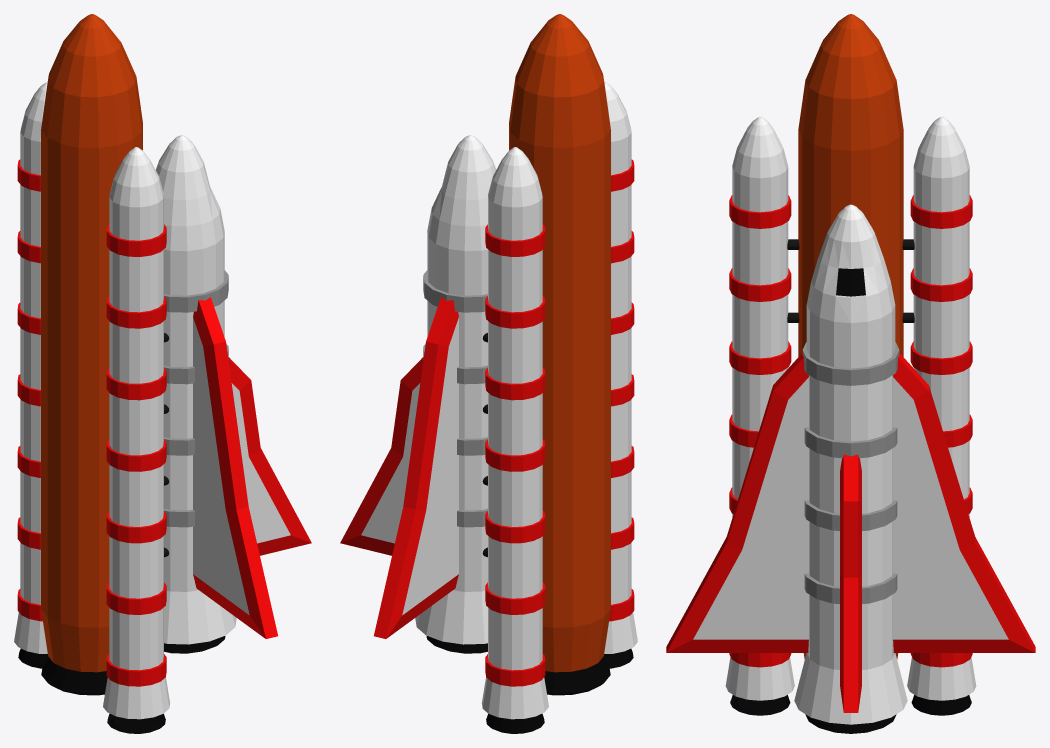
Rendered from rocketmodel.obj.
3 renders of one model, left to right at view 1: azimuth 30°, elevation 25°; view 2: azimuth 150°, elevation 25°; view 3: azimuth 270°, elevation 25°, orthographic. The views are drawn at different scales.
Visible parts, largest first — view 1: Cylinder.004, Cylinder, Cylinder.015, Cylinder.005; view 2: Cylinder.004, Cylinder, Cylinder.005, Cylinder.015; view 3: Cylinder, Cylinder.004, Cylinder.015, Cylinder.005.
Boxes of the visible parts, box(x1,y1,x2,y2) form: Cylinder.004: box(41, 14, 169, 695); Cylinder: box(156, 135, 311, 653); Cylinder.015: box(103, 147, 170, 733); Cylinder.005: box(14, 82, 49, 668); Cylinder.004: box(482, 14, 610, 695); Cylinder: box(340, 135, 495, 653); Cylinder.005: box(481, 147, 548, 733); Cylinder.015: box(602, 82, 637, 668); Cylinder: box(666, 204, 1035, 733); Cylinder.004: box(787, 14, 914, 659); Cylinder.015: box(725, 116, 794, 715); Cylinder.005: box(907, 116, 976, 715).
Bounding box in the file's own units: 3.81 × 9.43 × 4.58.
